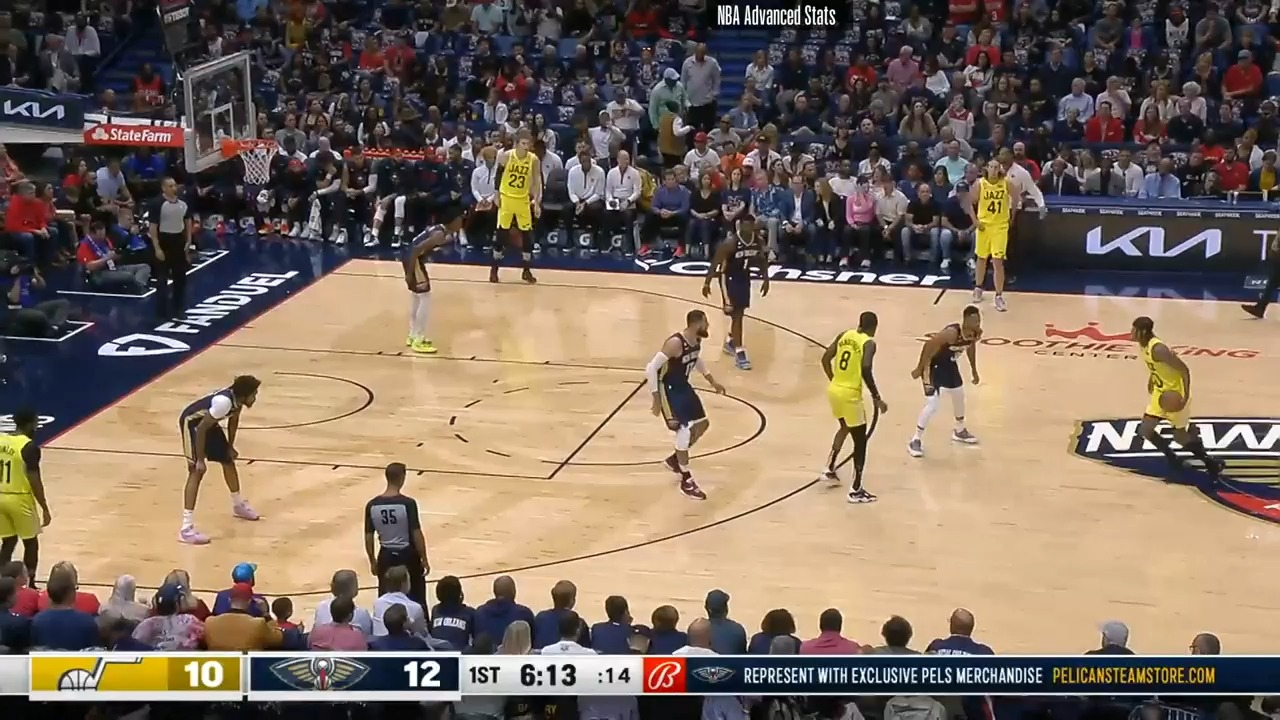net: (220, 133, 281, 189)
player: (647, 307, 732, 504), (1121, 315, 1214, 482), (173, 375, 259, 549), (821, 307, 894, 503), (912, 307, 993, 460), (703, 213, 770, 372), (0, 402, 55, 582), (400, 209, 463, 357), (970, 152, 1024, 315), (492, 135, 549, 288)
referee: (364, 459, 434, 594), (150, 177, 199, 329), (1252, 204, 1280, 326)
